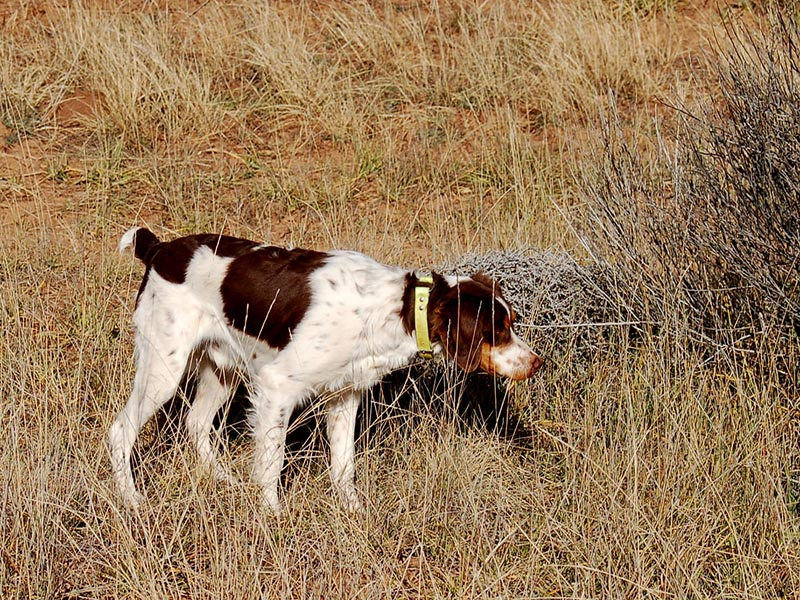cane da caccia: (87, 223, 544, 499)
